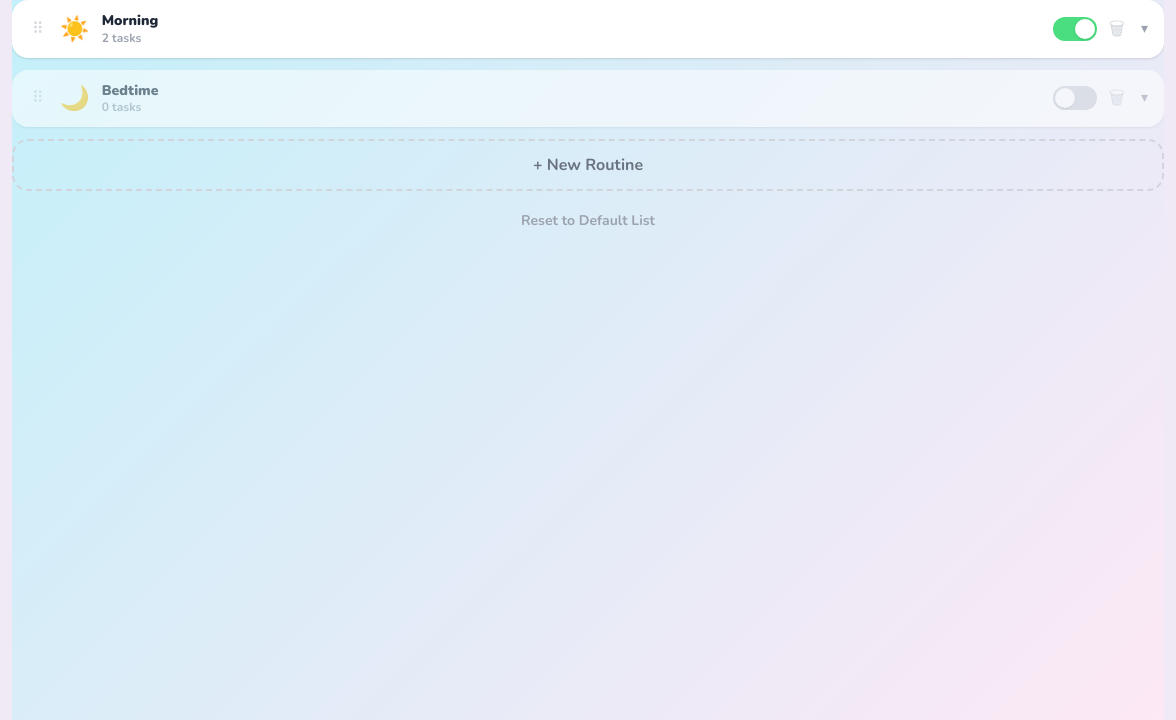
Scenario: RoutinesPanel — delete section › shows a confirm dialog before deleting
This screenshot has width=1176, height=720.
Trash button is the 🗑 button in the header — not inside expanded content
Click the button "🗑" in the row of "Morning". click: (1117, 29)
box: [1105,15,1129,43]
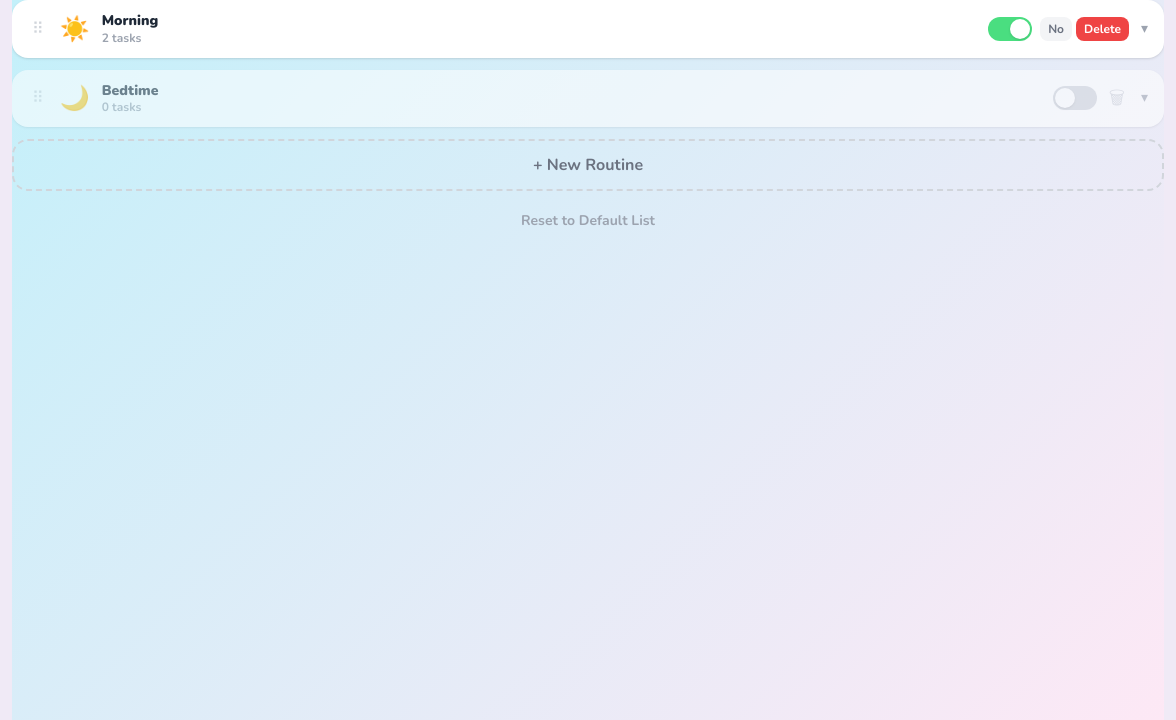
expect the button "Delete" is shown: met, box [1076,17,1129,41]
expect the button "No" is shown: met, box [1040,17,1072,41]
